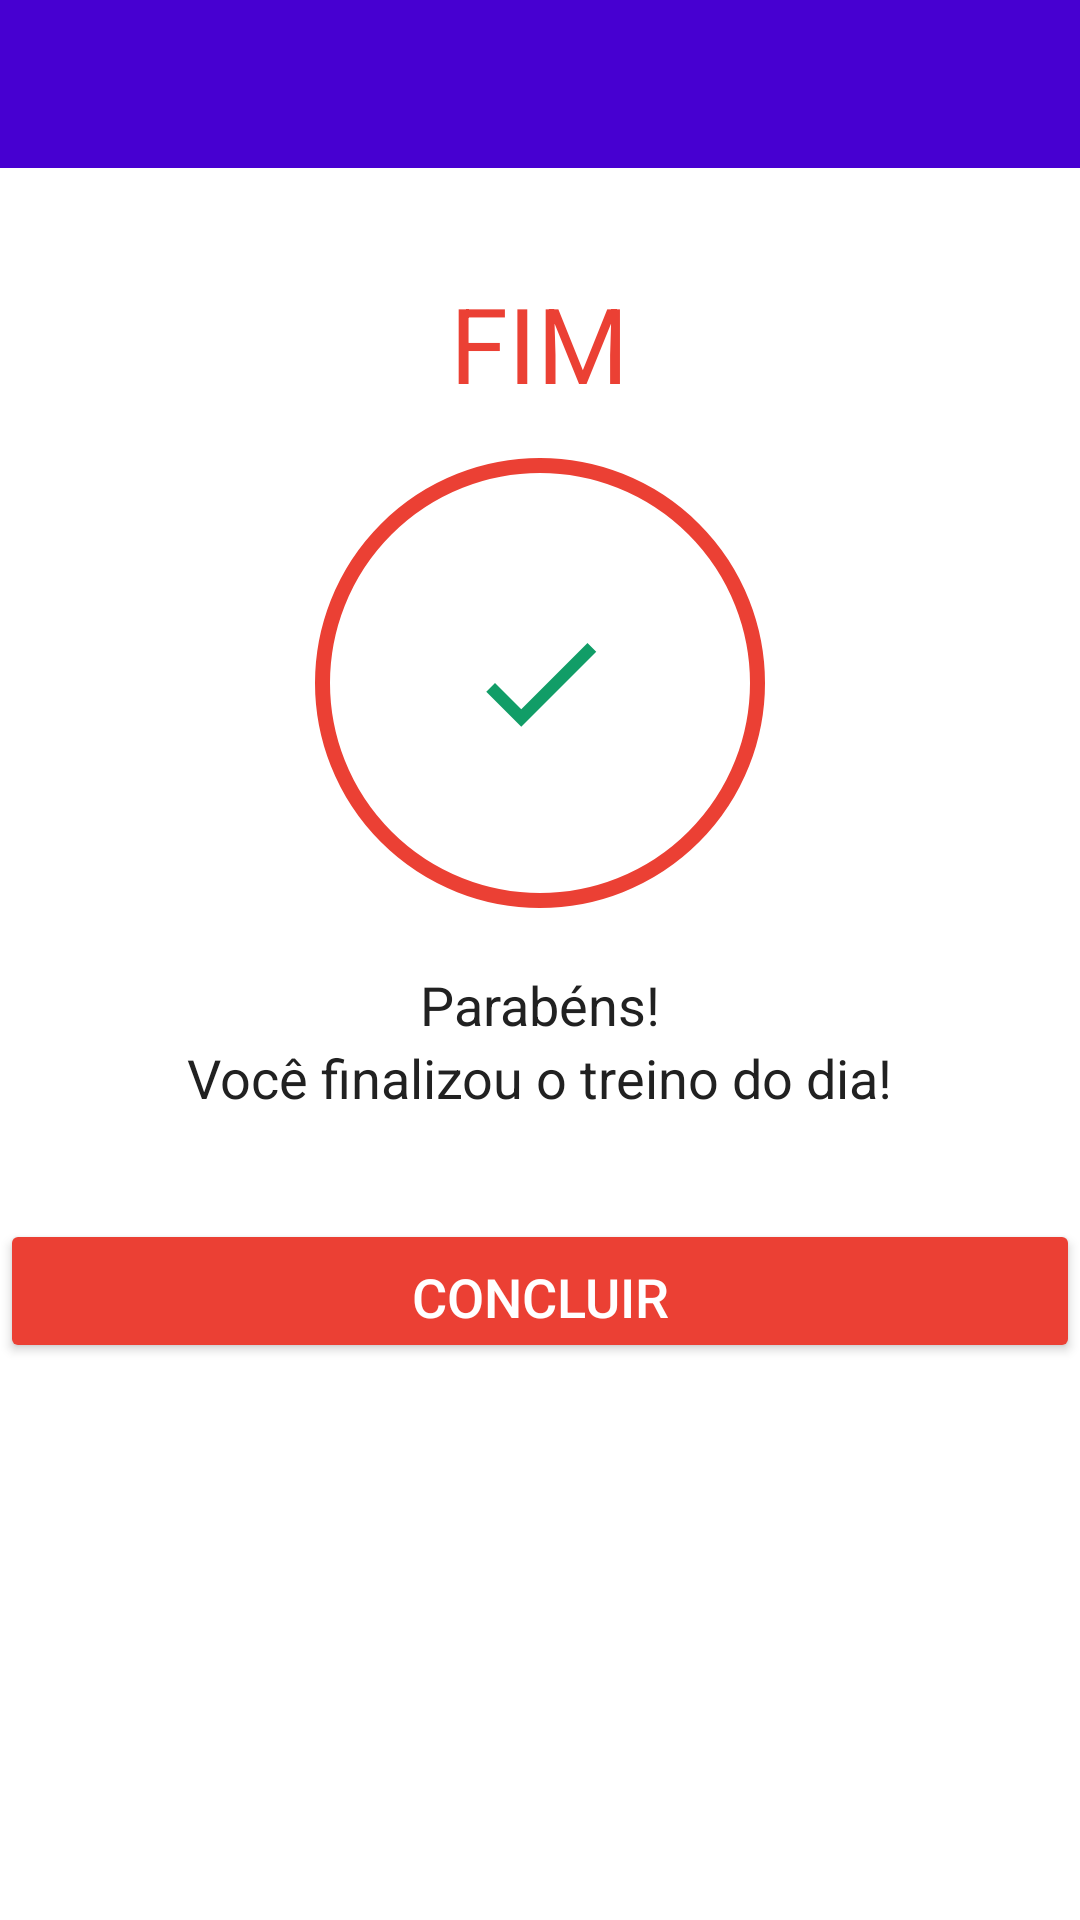

Icon bounding boxes for this 1080x1920 phone screenshot, format (x1, y1, x2, y2):
done: (486, 643, 596, 727)
